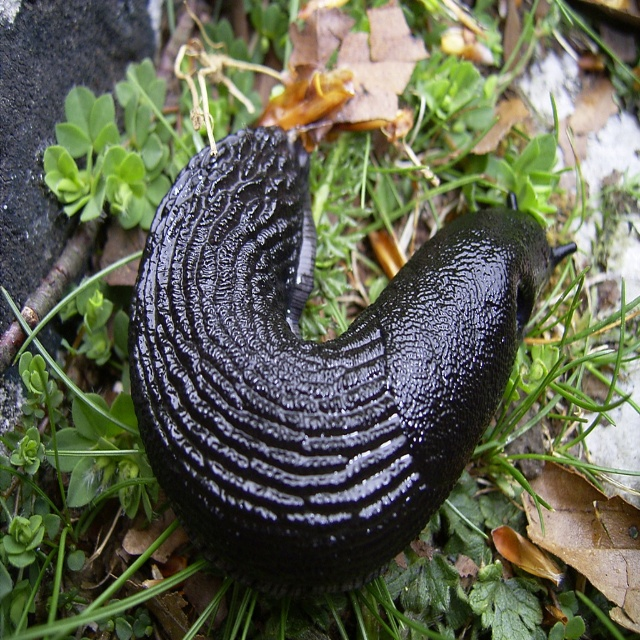Snail: (125, 123, 577, 604)
